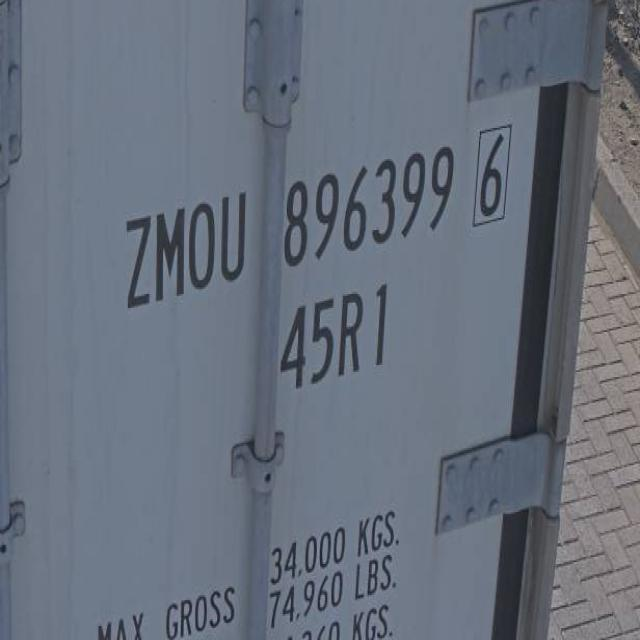dv: (470, 119, 518, 243)
owner: (114, 179, 251, 319)
serial: (277, 129, 453, 271)
size: (277, 277, 393, 403)
